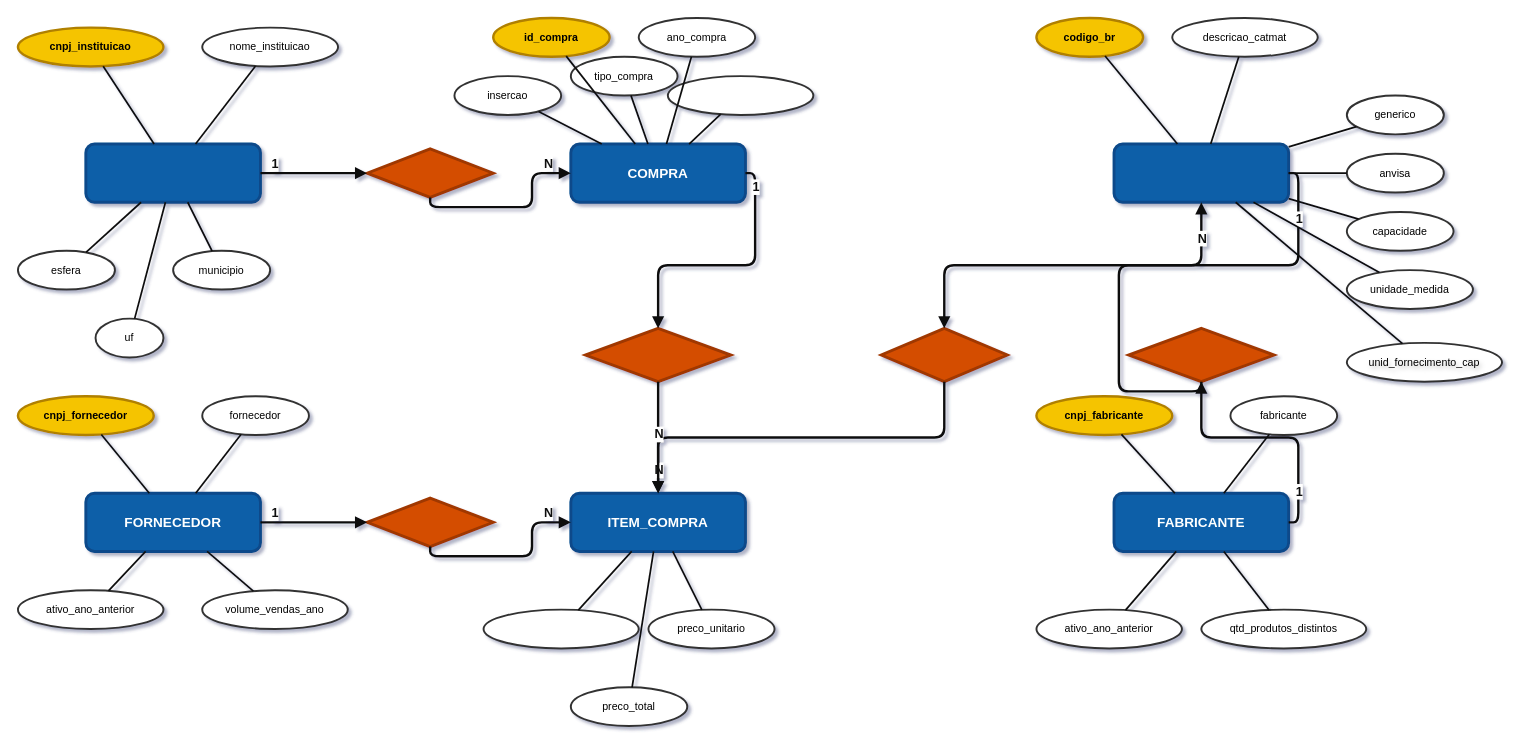
Image size: 1526x750. Some labels were removed from this diagram. Here are the shapes that lost their labels. From the top down, the centre of each, then its label:
At point (740, 95): "modalidade_compra".
At point (172, 172): "INSTITUIÇÃO".
At point (429, 172): "realiza".
At point (1201, 172): "PRODUTO".
At point (657, 354): "contém".
At point (943, 354): "inclui".
At point (1201, 354): "fabrica".
At point (429, 522): "fornece".
At point (560, 628): "qtd_itens_comprados".
